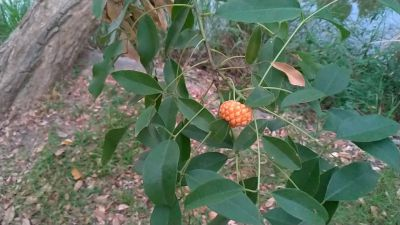eggs: (216, 97, 253, 129)
